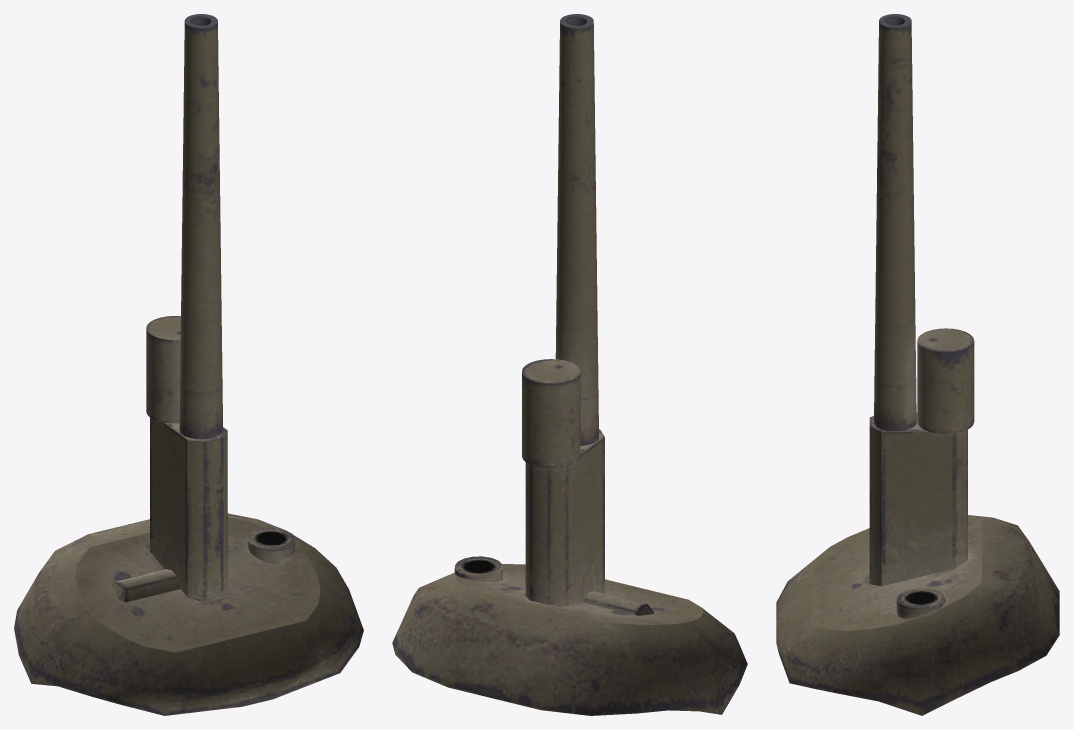
File: Gun_05.glb
The picture shows the model from 3 angles, left to right: view 1: azimuth 30°, elevation 25°; view 2: azimuth 150°, elevation 25°; view 3: azimuth 270°, elevation 25°; orthographic projection. The views are drawn at different scales.
Parts seen in each view (by area): view 1: set_0_group_0; view 2: set_0_group_0; view 3: set_0_group_0.
Part boxes in pixels (x1,y1,x2,y2): set_0_group_0: [14, 14, 363, 715]; set_0_group_0: [392, 14, 747, 715]; set_0_group_0: [776, 14, 1059, 715].
Bounding box in the file's own units: 0.5568 × 1.1 × 0.4531.
1 material, 1 textured.
